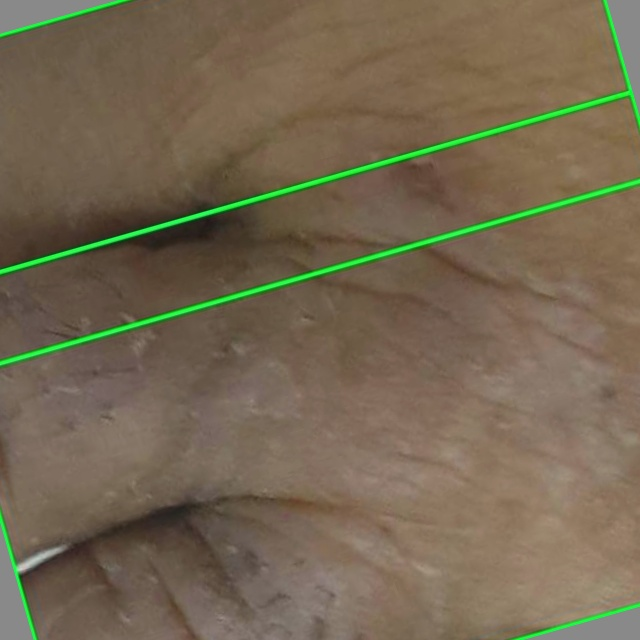Eczema: (0, 92, 639, 639), (0, 0, 639, 363)
